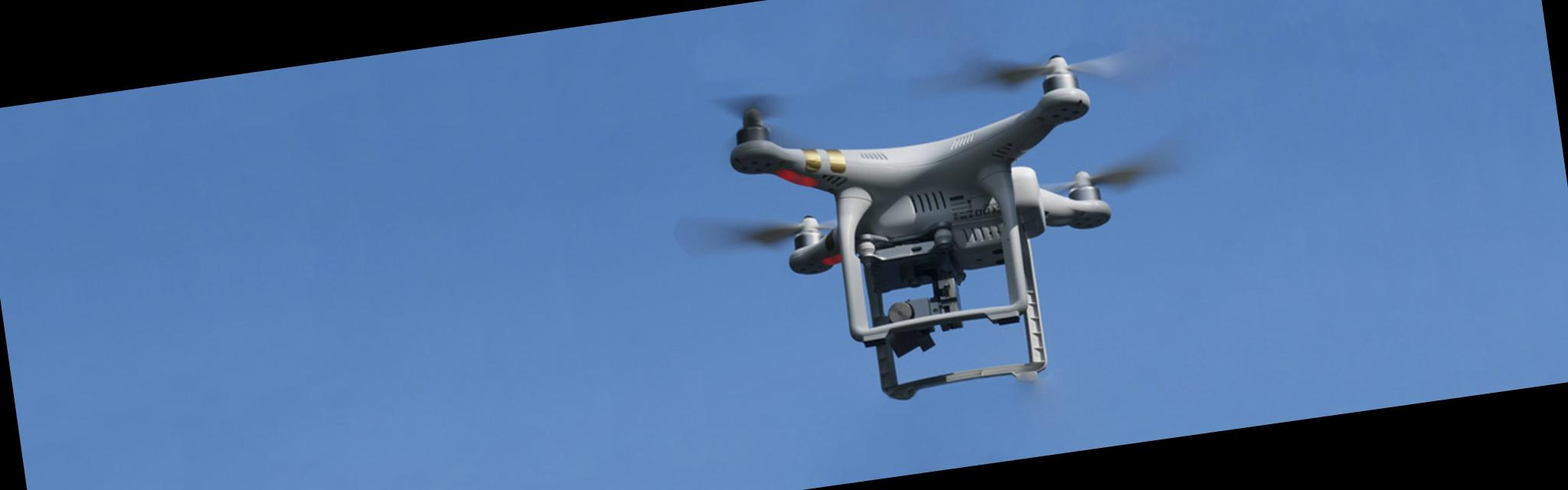drone: (612, 16, 1233, 333)
